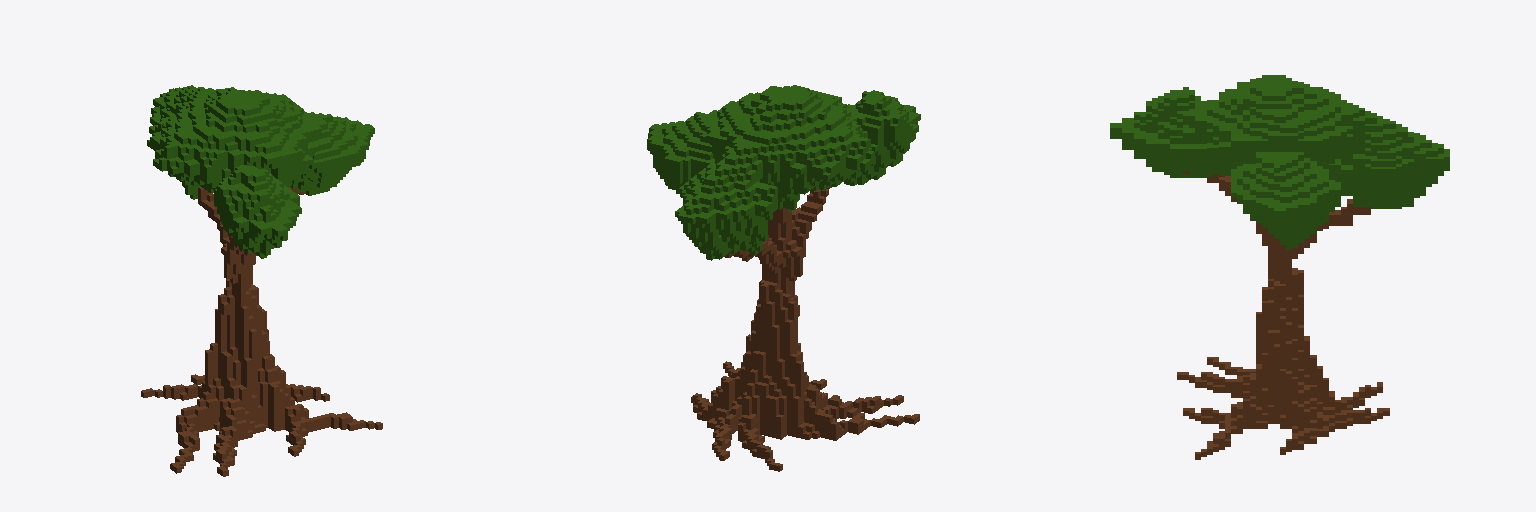
3 views of the same model, side by side, from view 1: azimuth 30°, elevation 25°; view 2: azimuth 150°, elevation 25°; view 3: azimuth 270°, elevation 25° (orthographic).
Parts seen in each view (by area): view 1: 21-1; view 2: 21-1; view 3: 21-1.
Part boxes in pixels (x1,y1,x2,y2): 21-1: (141, 85, 382, 476); 21-1: (647, 85, 920, 471); 21-1: (1110, 75, 1449, 459).
Size of the model in its own units: 44 by 59 by 56.
1 materials, 1 textured.